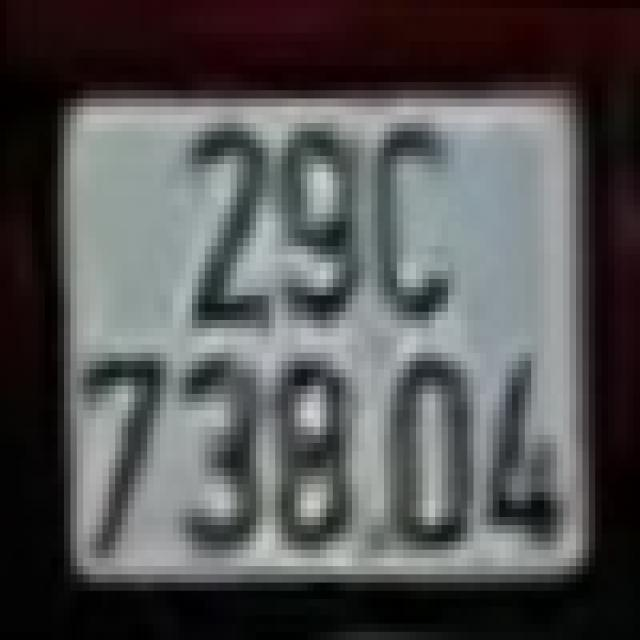0: (391, 353, 474, 550)
2: (179, 123, 275, 328)
3: (180, 353, 262, 550)
4: (486, 344, 564, 550)
7: (77, 353, 166, 558)
8: (275, 353, 352, 550)
9: (282, 123, 358, 320)
C: (372, 123, 454, 320)
